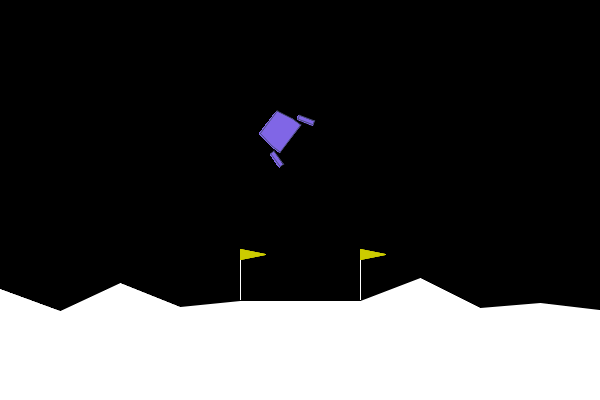lander: (249, 97, 317, 169)
